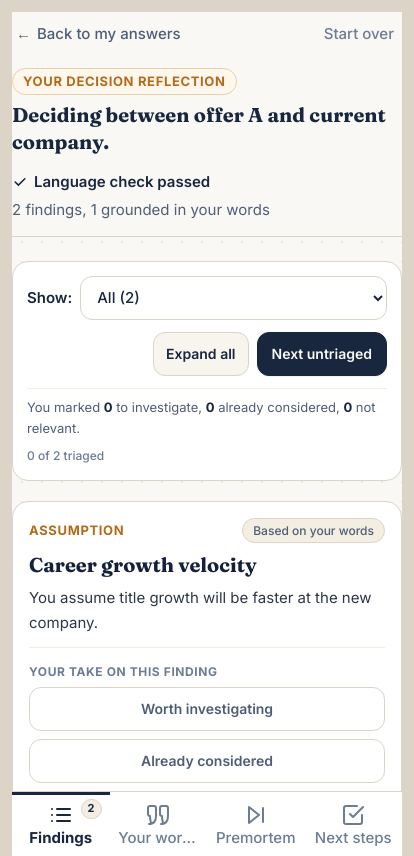
Test: Phase 9: Results Redesign & Reliability Integration › Filter Chips & Mobile Select › mobile select dropdown filters visible findings
The image size is (414, 856).
// Change selection to "overlooked_factor"
Select "Overlooked factors (1)" in the dropdown labelled "Show:" at (234, 298), box [80, 276, 387, 320]
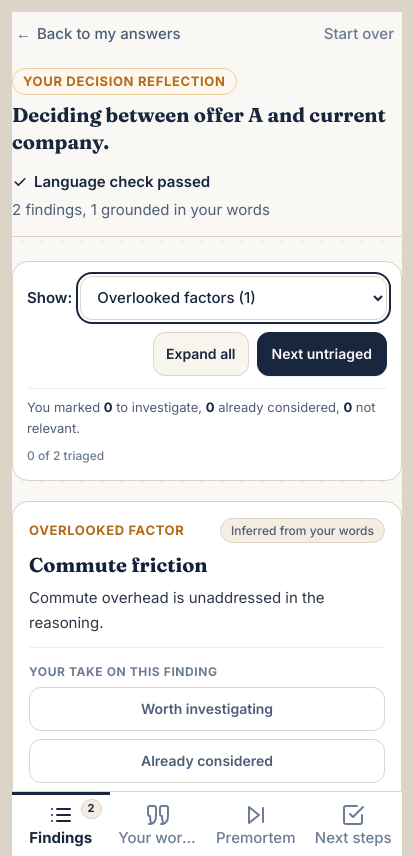
Expected: the heading "Commute friction" is shown, [29, 552, 208, 577]
Now the heading "Career growth velocity" is gone
